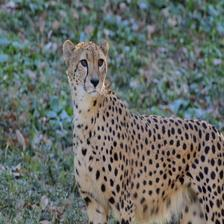Cheetah: (60, 36, 224, 223)
